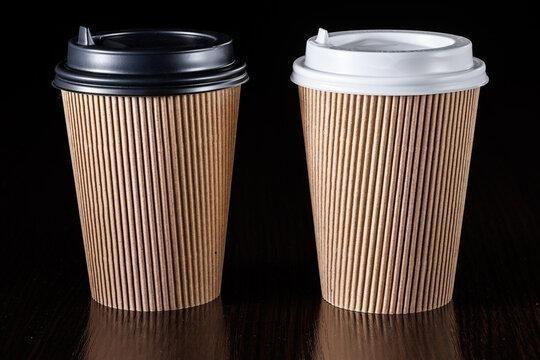cup-disposable: (288, 24, 491, 318), (50, 21, 251, 316)
